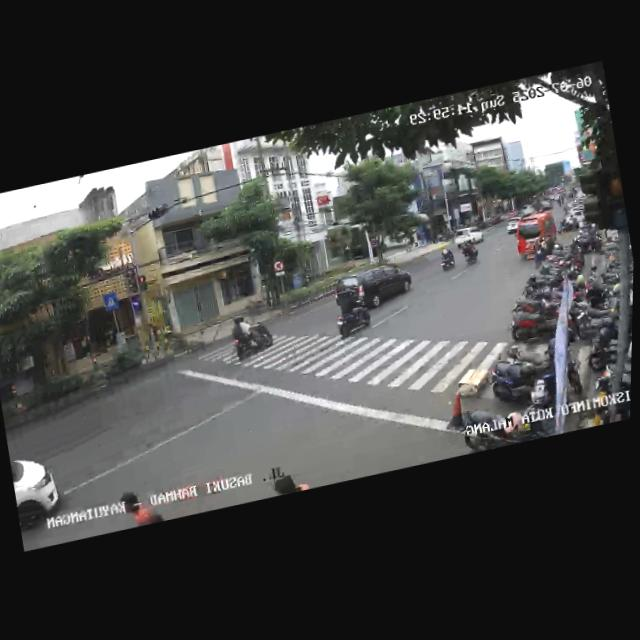car: (7, 441, 69, 539), (354, 258, 418, 311), (511, 208, 562, 263), (453, 222, 487, 248)
motorcycle: (327, 278, 374, 341), (226, 308, 277, 365), (458, 234, 480, 266), (437, 243, 456, 273)
